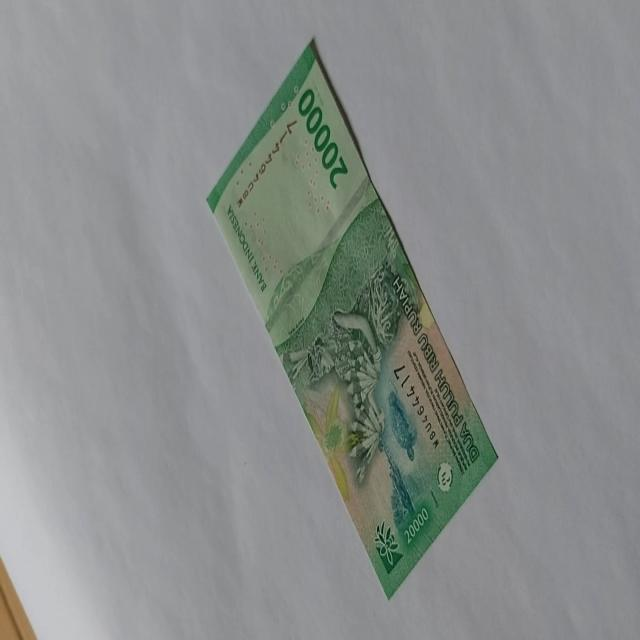dua puluh ribu rupiah: (205, 36, 499, 600), (286, 254, 422, 489)
